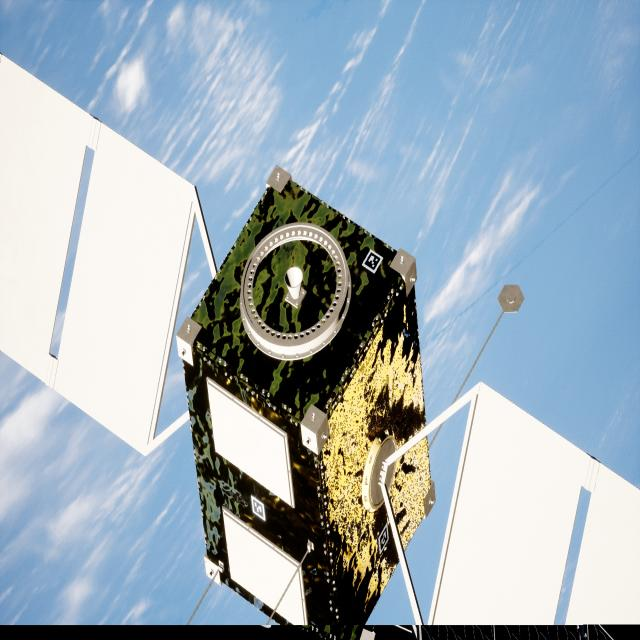satellite: (0, 53, 640, 640)
